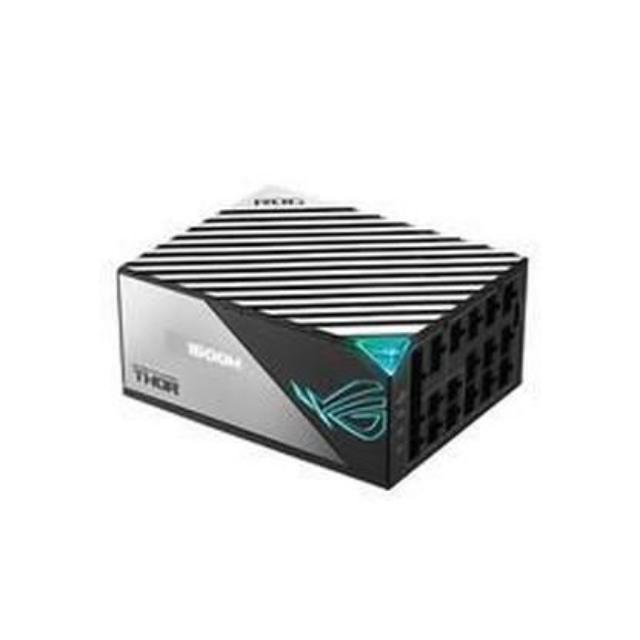PSU: (114, 175, 532, 500)
